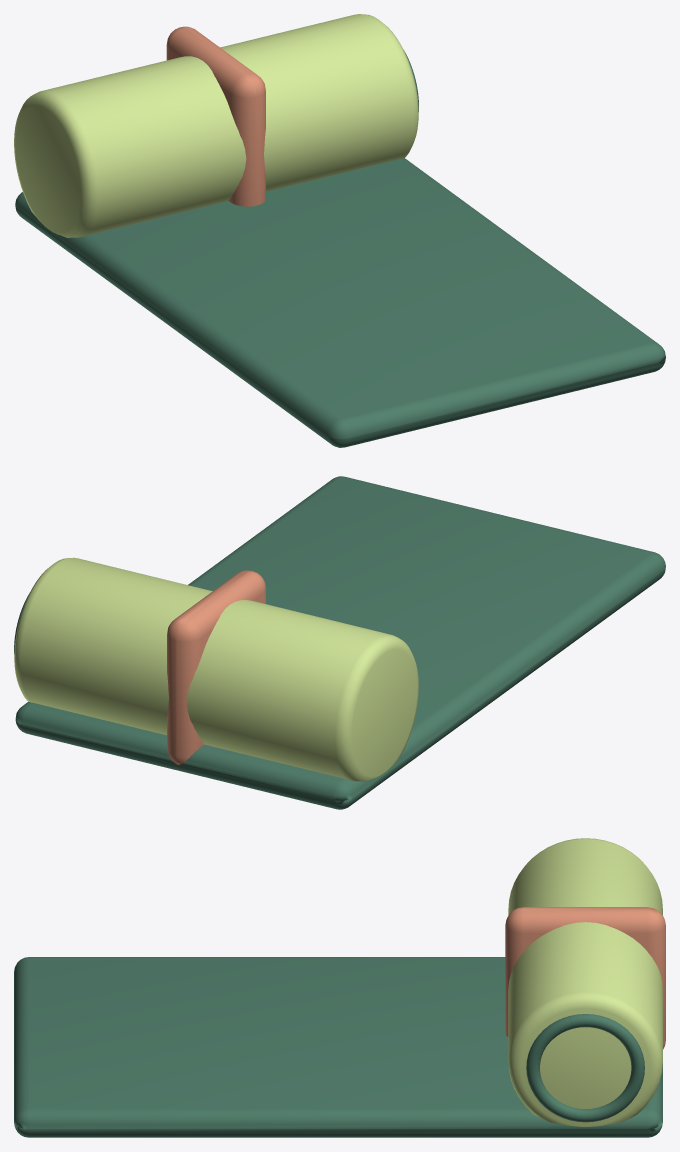
File: yoga-mat.glb
3 views of the same model, one above another, from view 1: azimuth 30°, elevation 25°; view 2: azimuth 150°, elevation 25°; view 3: azimuth 270°, elevation 25° (orthographic).
Visible parts, largest first — view 1: Mat, Rolled edge, Strap; view 2: Mat, Rolled edge, Strap; view 3: Mat, Rolled edge, Strap, Roll detail.
Boxes of the visible parts, x1,y1,x2,y2 form: Mat: (15,158,665,447); Rolled edge: (14,14,418,237); Strap: (166,26,265,206); Mat: (15,476,665,809); Rolled edge: (14,557,418,781); Strap: (167,570,265,764); Mat: (14,957,662,1137); Rolled edge: (508,838,662,1126); Strap: (505,907,665,1049); Roll detail: (526,1014,644,1122).
Bounding box in the file's own units: 1.28 × 0.545 × 2.11.
